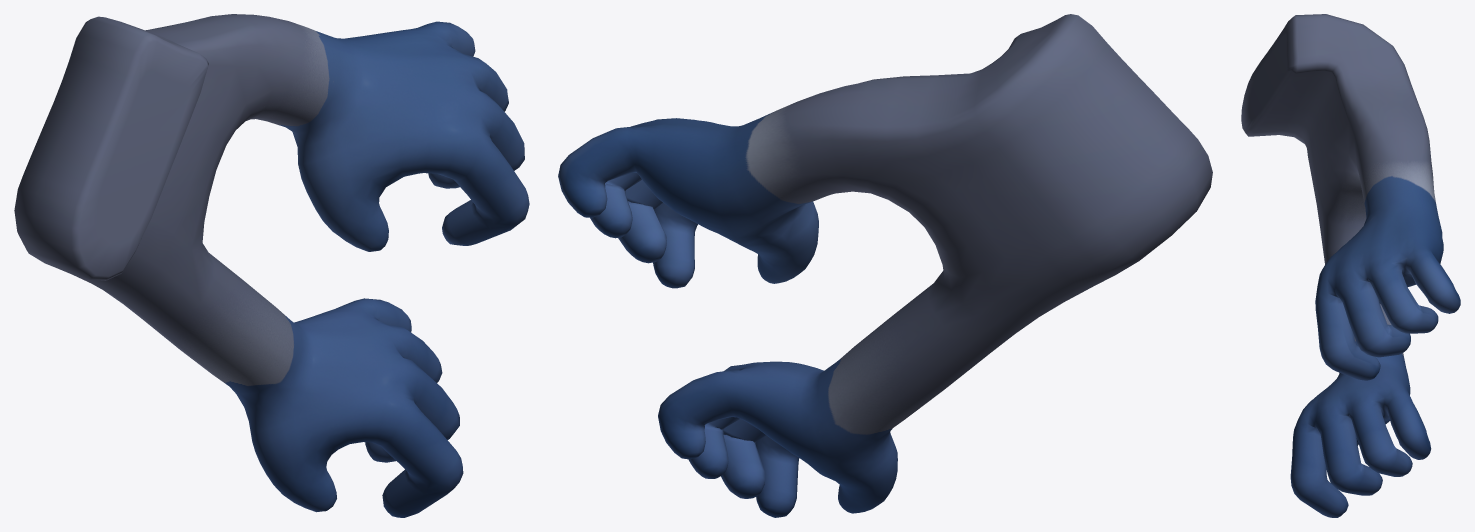
The model's file is DX_JIJEOPGUI_ACC_L.FBX.
3 views of the same model, side by side, from view 1: azimuth 30°, elevation 25°; view 2: azimuth 150°, elevation 25°; view 3: azimuth 270°, elevation 25° (orthographic). The views are drawn at different scales.
Parts seen in each view (by area): view 1: Object003; view 2: Object003; view 3: Object003.
Part boxes in pixels (box(x1,y1,x2,y2)): Object003: box(14, 14, 529, 517); Object003: box(558, 14, 1212, 517); Object003: box(1241, 14, 1460, 517).
Bounding box in the file's own units: 19.45 × 18.99 × 9.37.
